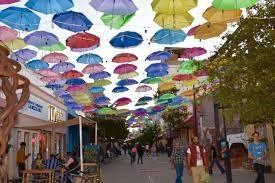Umbrella: (0, 6, 41, 32), (54, 10, 92, 34), (85, 0, 141, 16), (26, 1, 78, 17), (194, 20, 228, 44), (148, 0, 200, 15), (109, 30, 144, 52), (24, 29, 58, 50), (64, 31, 100, 50), (210, 1, 259, 10), (9, 48, 38, 63), (178, 46, 209, 60), (40, 51, 71, 65), (50, 60, 77, 75), (146, 51, 174, 64), (77, 53, 103, 65), (82, 63, 106, 76), (144, 62, 171, 73), (111, 63, 137, 74), (110, 53, 138, 63), (116, 77, 139, 89), (64, 77, 85, 87), (87, 85, 108, 95), (114, 98, 135, 105), (112, 86, 130, 94)
